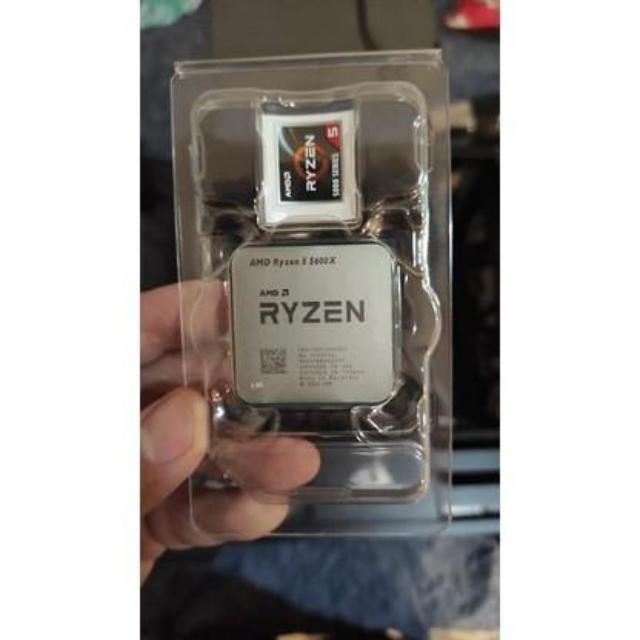CPU: (230, 245, 399, 406)
